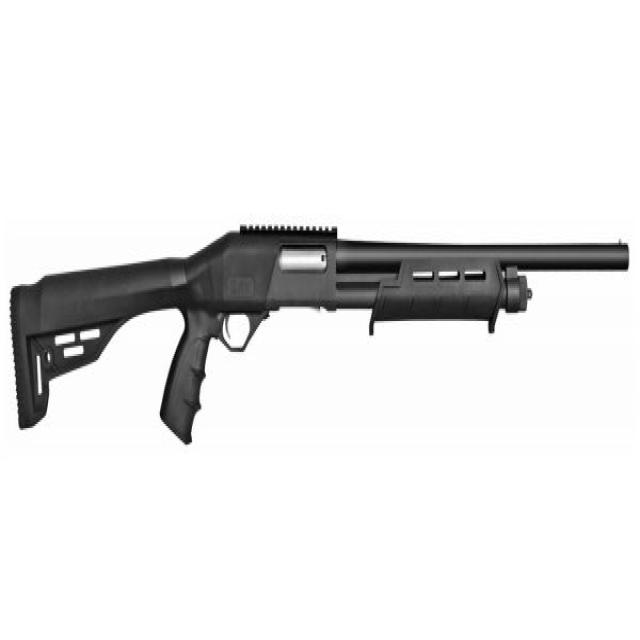ShotGun: (10, 224, 631, 447)
